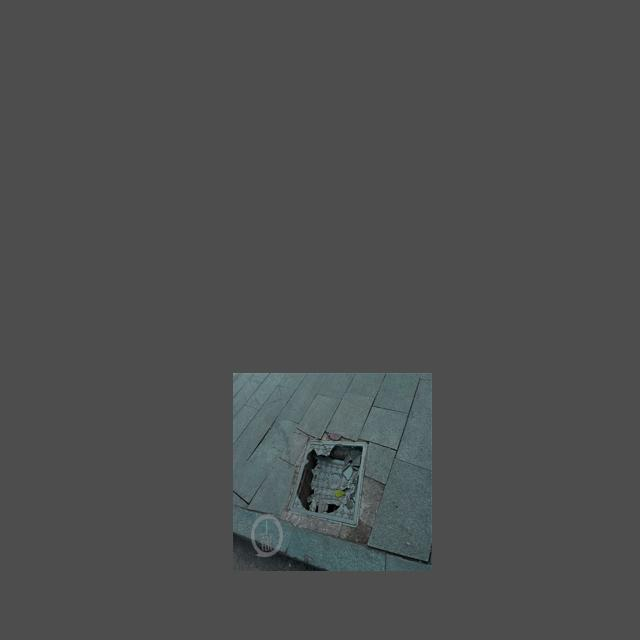broke: (278, 432, 382, 523)
